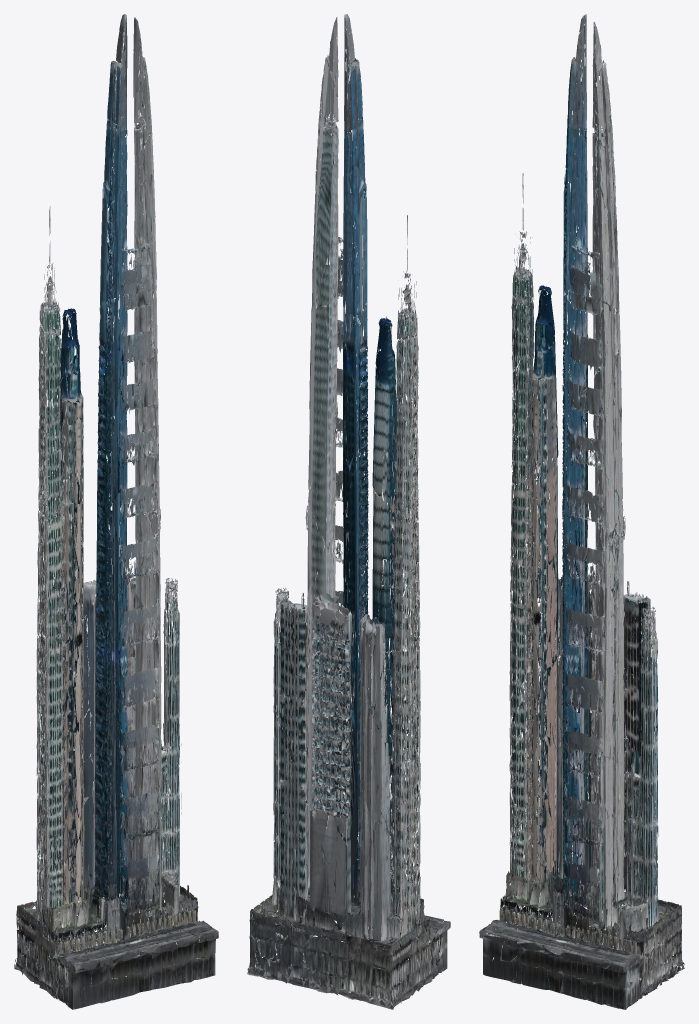
File: damac-heights.glb
3 renders of one model, left to right at view 1: azimuth 30°, elevation 25°; view 2: azimuth 150°, elevation 25°; view 3: azimuth 330°, elevation 25°, orthographic.
Visible parts, largest first — view 1: Mesh_0; view 2: Mesh_0; view 3: Mesh_0.
Part boxes in pixels (<box>): Mesh_0: <box>14,14,218,1009</box>; Mesh_0: <box>247,14,450,1009</box>; Mesh_0: <box>479,14,684,1009</box>.
Bounding box in the file's own units: 49.99 × 311 × 35.02.
1 material, 1 textured.
